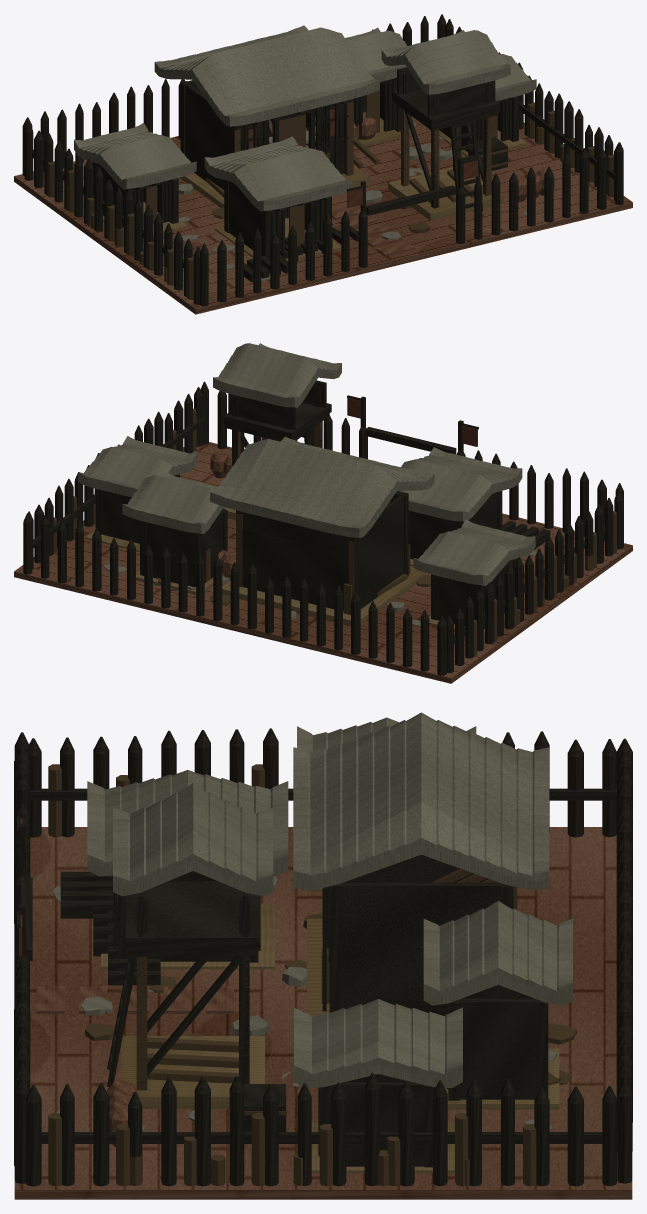
3 renders of one model, top to bottom at view 1: azimuth 30°, elevation 25°; view 2: azimuth 150°, elevation 25°; view 3: azimuth 270°, elevation 25°, orthographic. The views are drawn at different scales.
Parts seen in each view (by area): view 1: garrison_part_0004, garrison_part_0000, garrison_part_0005, garrison_part_0006, garrison_part_0001, garrison_part_0003, garrison_part_0002; view 2: garrison_part_0004, garrison_part_0005, garrison_part_0001, garrison_part_0006, garrison_part_0000, garrison_part_0003, garrison_part_0002; view 3: garrison_part_0000, garrison_part_0006, garrison_part_0004, garrison_part_0001, garrison_part_0005, garrison_part_0003, garrison_part_0002.
Boxes of the visible parts, box(x1,y1,x2,y2) form: garrison_part_0004: box(22, 14, 618, 302); garrison_part_0000: box(14, 116, 632, 314); garrison_part_0005: box(32, 22, 613, 306); garrison_part_0006: box(24, 16, 623, 297); garrison_part_0001: box(124, 25, 615, 282); garrison_part_0003: box(47, 100, 613, 299); garrison_part_0002: box(66, 126, 564, 282); garrison_part_0004: box(23, 367, 606, 675); garrison_part_0005: box(34, 391, 623, 671); garrison_part_0001: box(32, 380, 550, 626); garrison_part_0006: box(28, 343, 603, 672); garrison_part_0000: box(14, 442, 632, 683); garrison_part_0003: box(53, 408, 616, 655); garrison_part_0002: box(73, 523, 593, 641); garrison_part_0000: box(14, 827, 632, 1199); garrison_part_0006: box(14, 730, 632, 1186); garrison_part_0004: box(14, 729, 632, 1186); garrison_part_0001: box(17, 712, 618, 1143); garrison_part_0005: box(14, 717, 632, 1186); garrison_part_0003: box(48, 764, 536, 1186); garrison_part_0002: box(81, 886, 576, 1186).
Size of the model in its own units: 1140 by 413 by 822.
